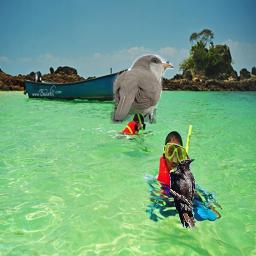Crow: (169, 158, 196, 228)
Cuckoo: (110, 54, 174, 124)
